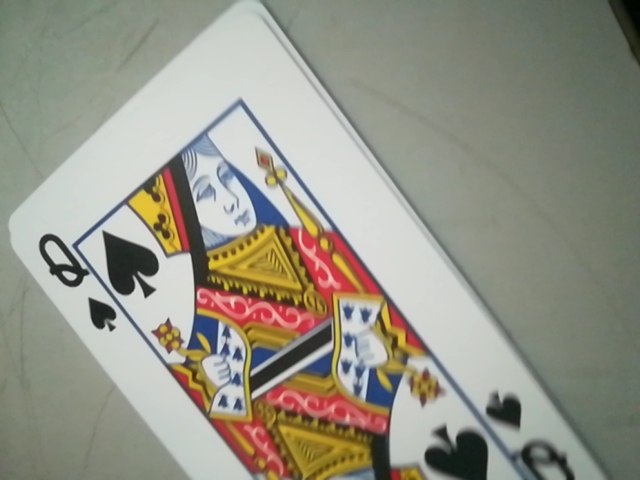ht q: (22, 233, 133, 333)
